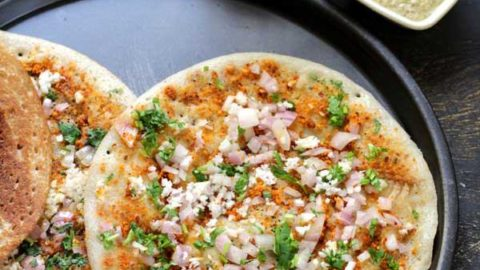dosa: (1, 28, 439, 270)
